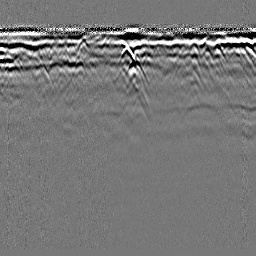cavity: (121, 42, 135, 61)
